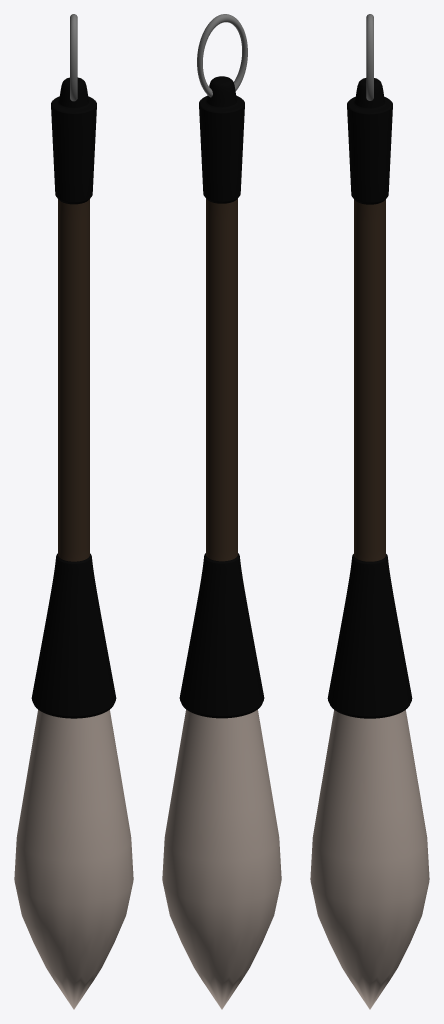
File: brush.fbx
The picture shows the model from 3 angles, left to right: view 1: azimuth 90°, elevation 25°; view 2: azimuth 210°, elevation 25°; view 3: azimuth 270°, elevation 25°; orthographic projection.
Parts seen in each view (by area): view 1: brush23; view 2: brush23; view 3: brush23.
Boxes of the visible parts, x1,y1,x2,y2 form: brush23: [14, 14, 133, 1009]; brush23: [162, 14, 281, 1009]; brush23: [310, 14, 429, 1009].
Size of the model in its own units: 12.84 by 118 by 12.84.
